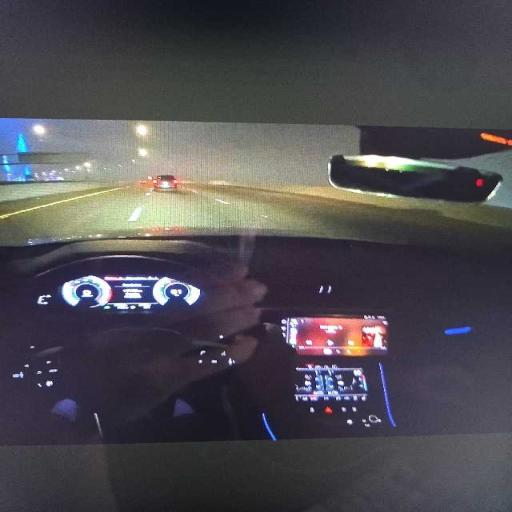car: (0, 123, 511, 510), (152, 175, 178, 190)
lane: (0, 184, 510, 246)
